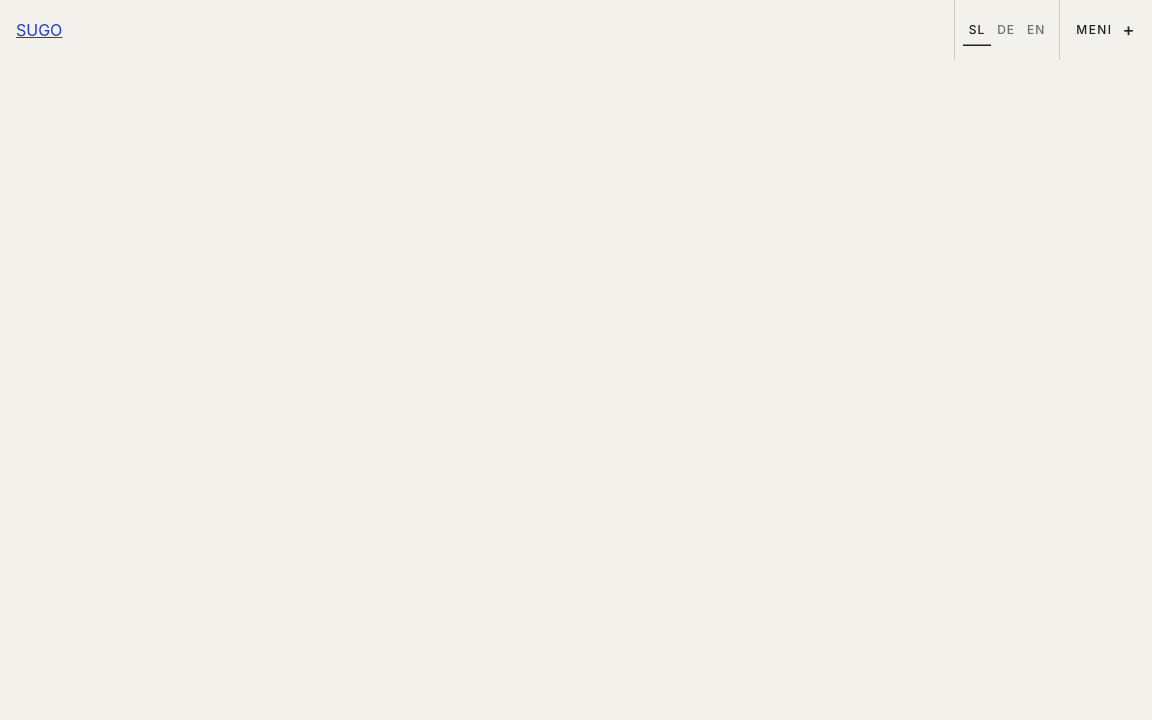
Test case: closes the menu with Escape
Click the button "Meni +".
click(1106, 30)  # box [1059, 0, 1151, 60]
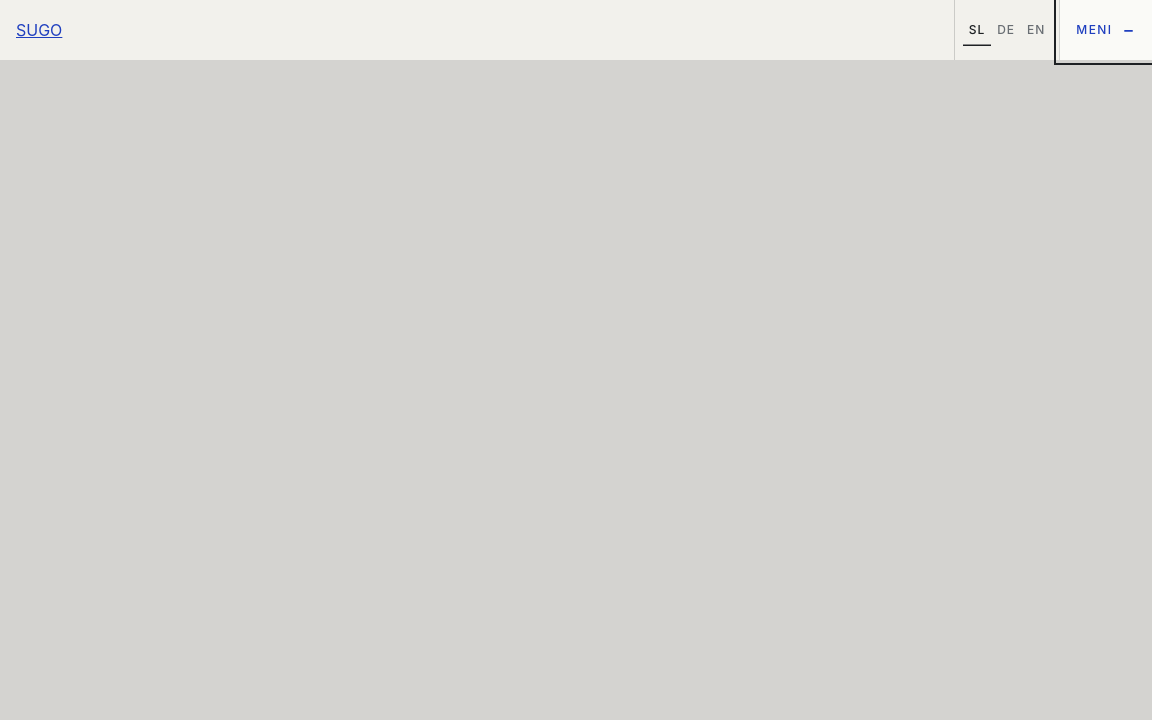
Press Escape
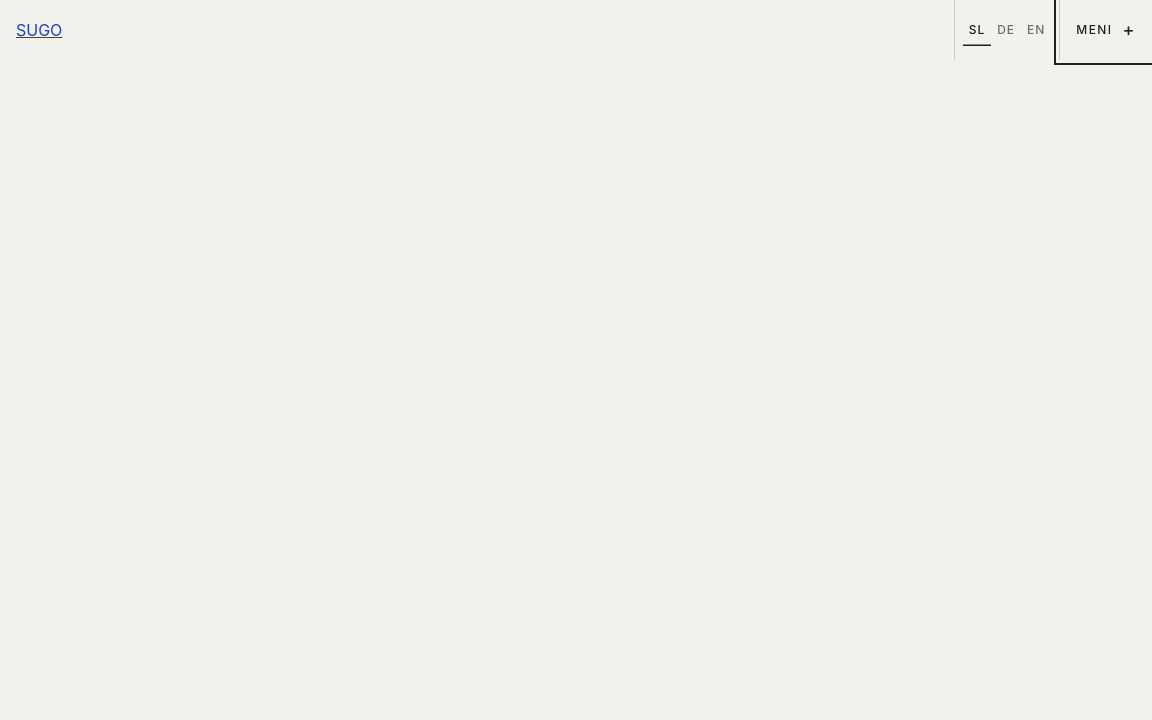
Now the button "Meni +" is collapsed, box [1059, 0, 1151, 60]
